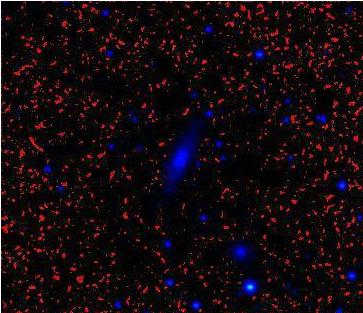star: (324, 292, 354, 313)
